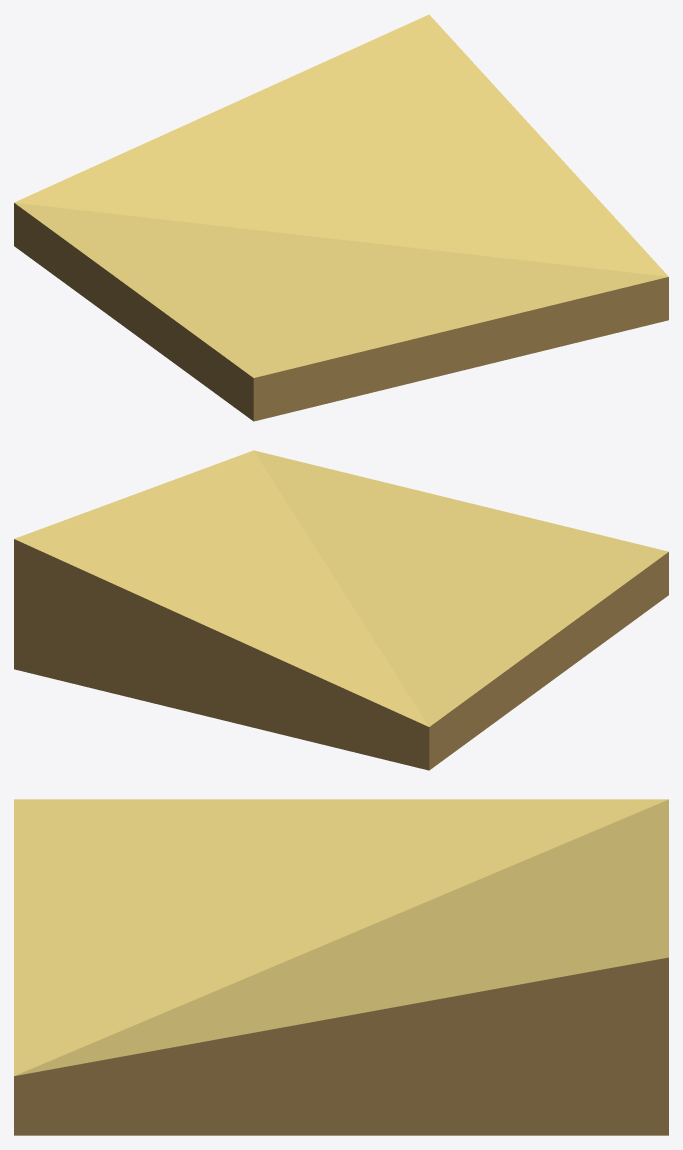
The model's file is Terrain_Modular_Tiles_Sand_Dirt_Ramp_Corner_Large_02.fbx.
The picture shows the model from 3 angles, top to bottom: view 1: azimuth 30°, elevation 25°; view 2: azimuth 150°, elevation 25°; view 3: azimuth 270°, elevation 25°; orthographic projection. The views are drawn at different scales.
Parts seen in each view (by area): view 1: Terrain_Modular_Tiles_Sand_Dirt_Ramp_Corner_Large_02; view 2: Terrain_Modular_Tiles_Sand_Dirt_Ramp_Corner_Large_02; view 3: Terrain_Modular_Tiles_Sand_Dirt_Ramp_Corner_Large_02.
Part boxes in pixels (box(x1,y1,x2,y2)): Terrain_Modular_Tiles_Sand_Dirt_Ramp_Corner_Large_02: box(14, 14, 668, 421); Terrain_Modular_Tiles_Sand_Dirt_Ramp_Corner_Large_02: box(14, 450, 668, 770); Terrain_Modular_Tiles_Sand_Dirt_Ramp_Corner_Large_02: box(14, 799, 668, 1135).
Size of the model in its own units: 3000 by 900 by 3000.
